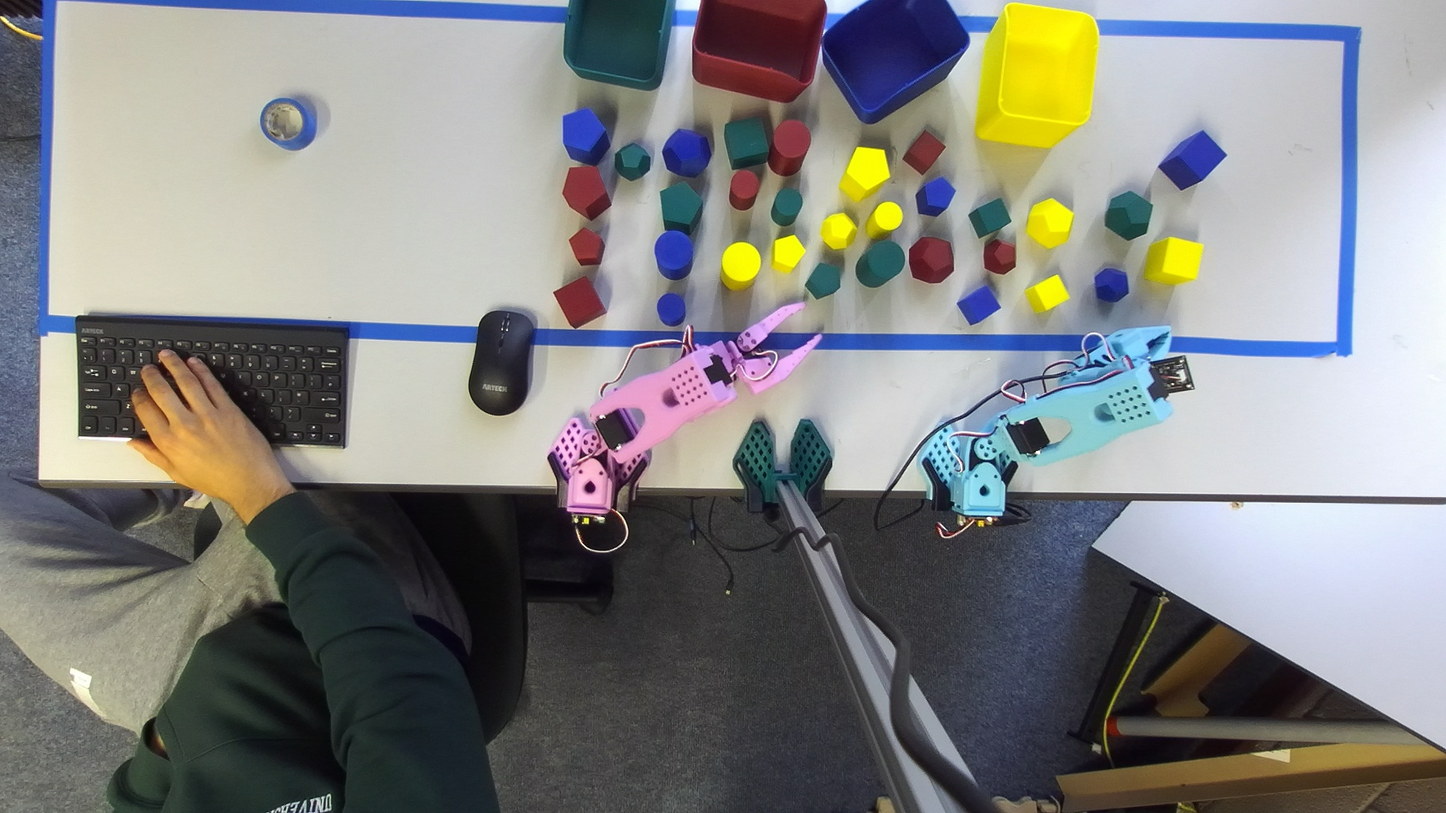bin: (822, 0, 969, 123), (975, 4, 1098, 147), (692, 0, 826, 102), (563, 0, 674, 90)
cube: (1158, 131, 1226, 190), (1144, 237, 1203, 284), (554, 276, 606, 327), (725, 117, 769, 169), (903, 129, 944, 174), (957, 285, 1001, 324), (1025, 275, 1069, 312), (969, 199, 1010, 238)
cylinder: (856, 239, 905, 288), (768, 120, 810, 176), (720, 242, 760, 290), (654, 230, 693, 279), (866, 201, 903, 238), (729, 169, 760, 210), (770, 188, 802, 226), (657, 292, 685, 326)
dodecahedron: (663, 129, 710, 177), (1105, 191, 1152, 239), (1027, 199, 1073, 247), (909, 237, 953, 283), (614, 142, 651, 180), (820, 212, 856, 250), (1094, 268, 1128, 302), (984, 239, 1015, 274)
gripper: (725, 301, 822, 393), (1106, 325, 1170, 361)
hexagonal: (839, 146, 889, 201), (562, 108, 610, 165), (563, 166, 610, 220), (660, 181, 703, 233), (915, 177, 955, 216), (804, 261, 841, 299), (569, 227, 604, 264), (771, 235, 804, 273)
